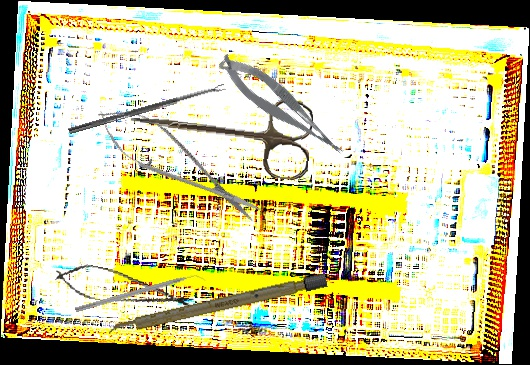Chopper: (74, 270, 207, 320)
Iris Scissors: (126, 83, 315, 182)
Micro Scissor: (85, 92, 273, 237), (213, 42, 349, 172), (52, 258, 197, 319)
Scalpel Handle: (107, 273, 328, 337)
Surgical Spoon: (68, 83, 226, 136)
